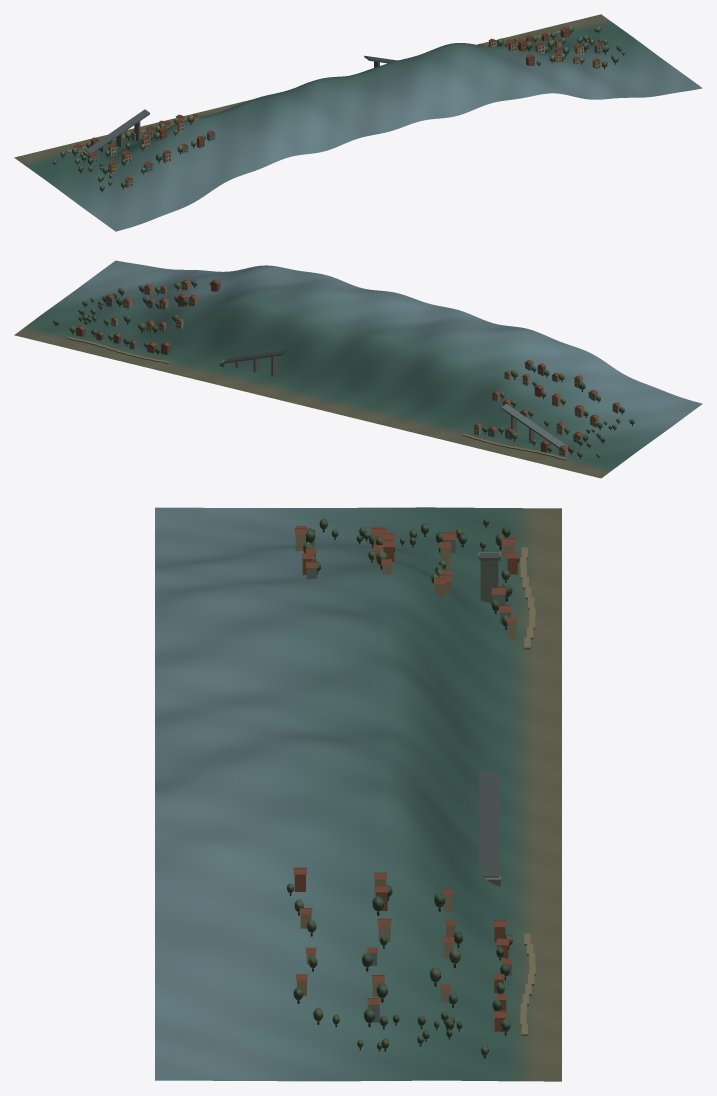
File: FilmShoreTerrain.glb
3 views of the same model, one above another, from view 1: azimuth 30°, elevation 25°; view 2: azimuth 150°, elevation 25°; view 3: azimuth 270°, elevation 25° (orthographic). The views are drawn at different scales.
Parts seen in each view (by area): view 1: RK_FilmShoreTerrain_FilmShore_VertexLand; view 2: RK_FilmShoreTerrain_FilmShore_VertexLand; view 3: RK_FilmShoreTerrain_FilmShore_VertexLand.
Part boxes in pixels (x1,y1,x2,y2): RK_FilmShoreTerrain_FilmShore_VertexLand: (14, 14, 702, 231); RK_FilmShoreTerrain_FilmShore_VertexLand: (14, 260, 702, 478); RK_FilmShoreTerrain_FilmShore_VertexLand: (155, 507, 561, 1081).
Bounding box in the file's own units: 600 × 50.05 × 180.
